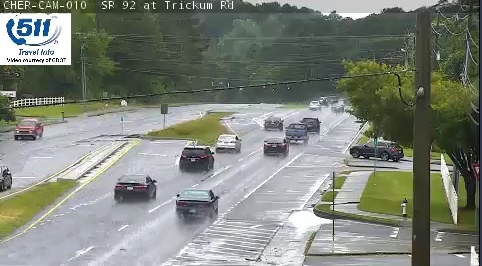car: (176, 190, 217, 218), (115, 175, 157, 200), (180, 147, 213, 170), (263, 138, 287, 155), (217, 135, 240, 151), (286, 124, 306, 142), (302, 117, 319, 132), (264, 117, 282, 129)
